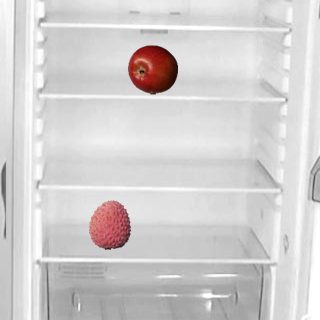Apple Braeburn: (127, 44, 177, 94)
Lychee: (84, 199, 134, 249)
